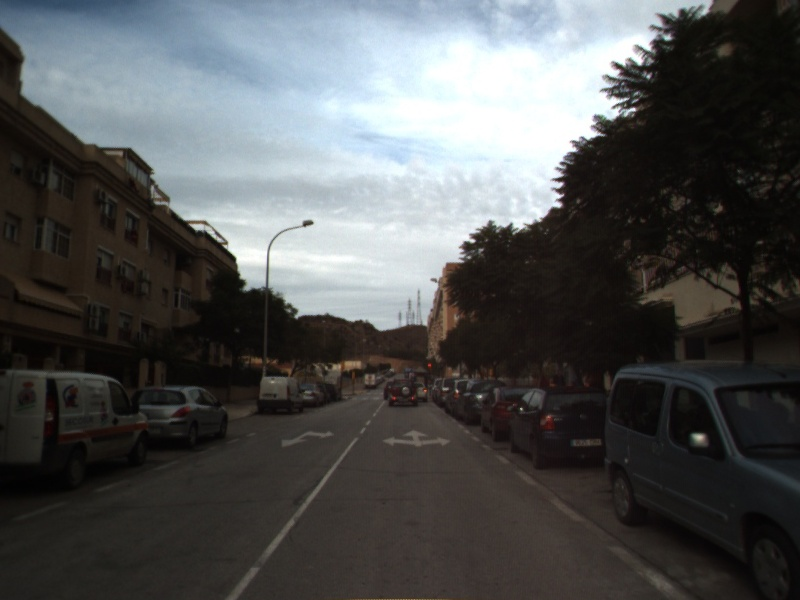STRAIGHT_LEFT_RIGHT: (380, 428, 453, 449)
